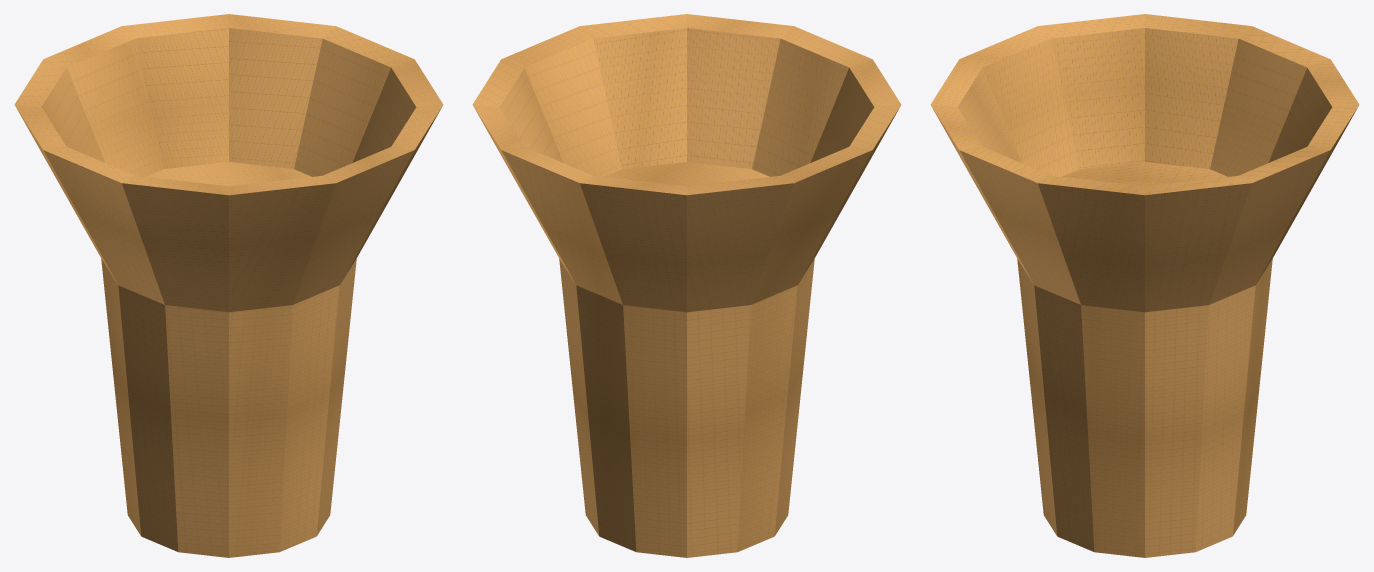
File: Ice_cream_cone_3.fbx
3 views of the same model, side by side, from view 1: azimuth 30°, elevation 25°; view 2: azimuth 150°, elevation 25°; view 3: azimuth 270°, elevation 25° (orthographic).
Parts seen in each view (by area): view 1: Ice_cream_cone_3; view 2: Ice_cream_cone_3; view 3: Ice_cream_cone_3.
Part boxes in pixels (x1=…): Ice_cream_cone_3: x1=14, y1=14, x2=443, y2=557; Ice_cream_cone_3: x1=472, y1=14, x2=901, y2=557; Ice_cream_cone_3: x1=930, y1=14, x2=1359, y2=557.
Size of the model in its own units: 17.87 by 18.87 by 17.87.
